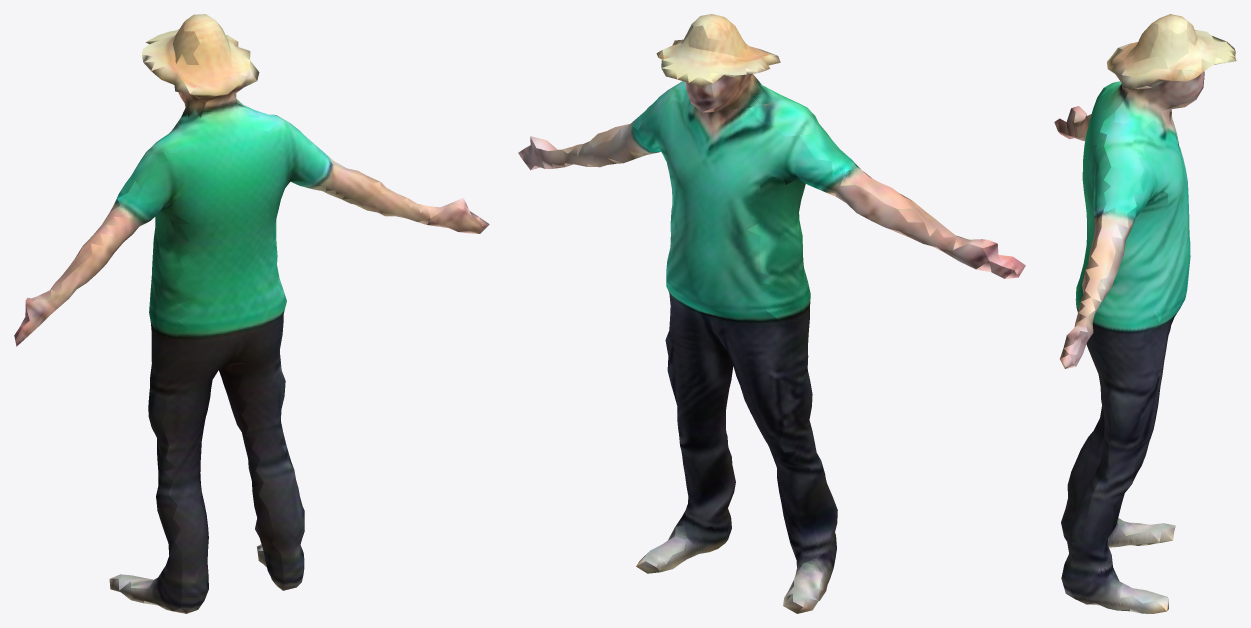
The picture shows the model from 3 angles, left to right: view 1: azimuth 30°, elevation 25°; view 2: azimuth 150°, elevation 25°; view 3: azimuth 270°, elevation 25°; orthographic projection. The views are drawn at different scales.
Visible parts, largest first — view 1: world; view 2: world; view 3: world.
Part boxes in pixels (left/top/right/bottom): world: left=14, top=14, right=489, bottom=613; world: left=518, top=14, right=1025, bottom=613; world: left=1054, top=14, right=1236, bottom=613.
Size of the model in its own units: 0.9235 by 1.01 by 0.2981.
Materials: 1 (1 with a texture image).
